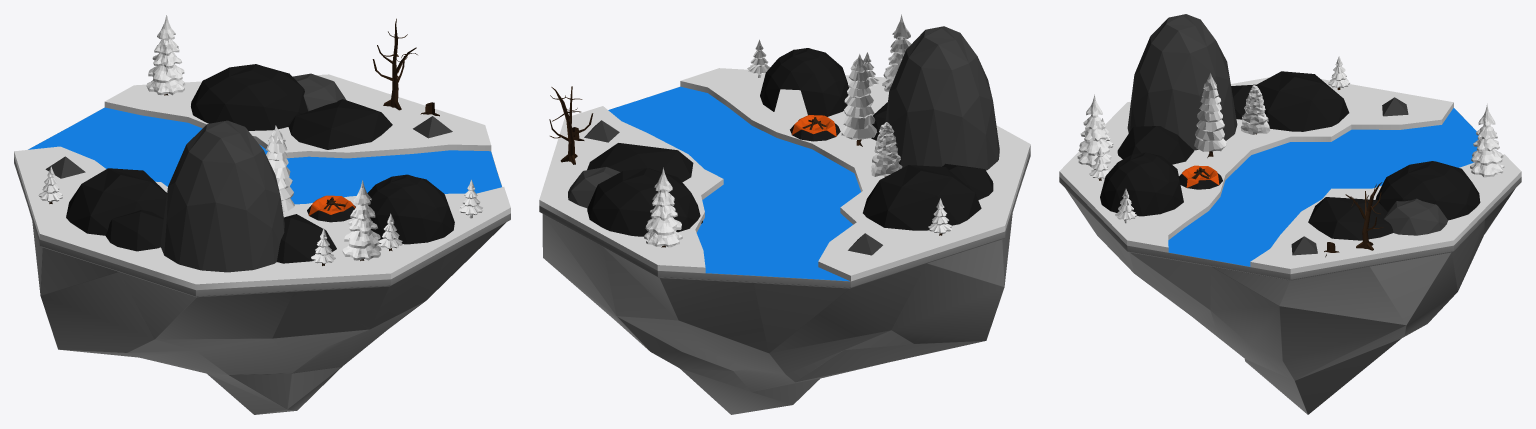
The model's file is Ice_planet_base_003.FBX.
The picture shows the model from 3 angles, left to right: view 1: azimuth 30°, elevation 25°; view 2: azimuth 150°, elevation 25°; view 3: azimuth 270°, elevation 25°; orthographic projection. The views are drawn at different scales.
Parts seen in each view (by area): view 1: 003_ICE PLANET_BASE001; view 2: 003_ICE PLANET_BASE001; view 3: 003_ICE PLANET_BASE001.
Part boxes in pixels (bbox=[...]): 003_ICE PLANET_BASE001: bbox=[14, 15, 510, 414]; 003_ICE PLANET_BASE001: bbox=[539, 14, 1030, 414]; 003_ICE PLANET_BASE001: bbox=[1059, 14, 1521, 414].
Bounding box in the file's own units: 16.22 × 13.04 × 16.22.
